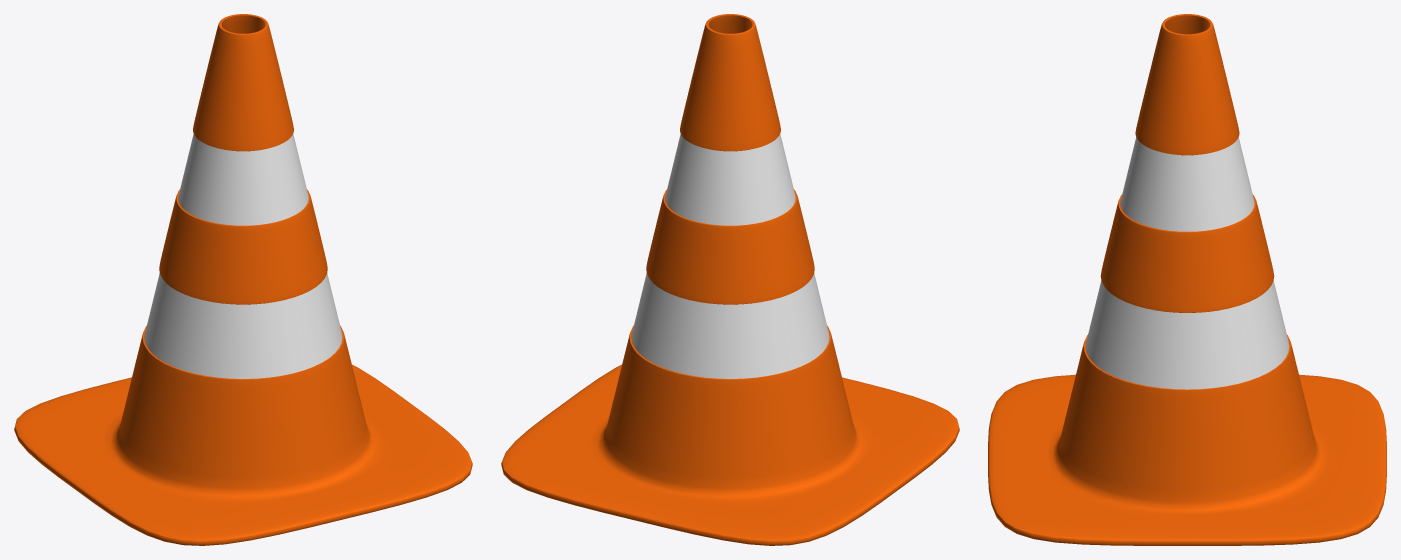
The picture shows the model from 3 angles, left to right: view 1: azimuth 30°, elevation 25°; view 2: azimuth 150°, elevation 25°; view 3: azimuth 270°, elevation 25°; orthographic projection. The views are drawn at different scales.
Visible parts, largest first — view 1: cone, Traffic_c1; view 2: cone, Traffic_c1; view 3: cone, Traffic_c1.
Part boxes in pixels (<box>): cone: <box>14,14,472,545</box>; Traffic_c1: <box>144,134,342,378</box>; cone: <box>501,14,959,545</box>; Traffic_c1: <box>631,134,829,378</box>; cone: <box>988,14,1386,545</box>; Traffic_c1: <box>1085,137,1289,389</box>.
Size of the model in its own units: 0.8233 by 1 by 0.8233.
